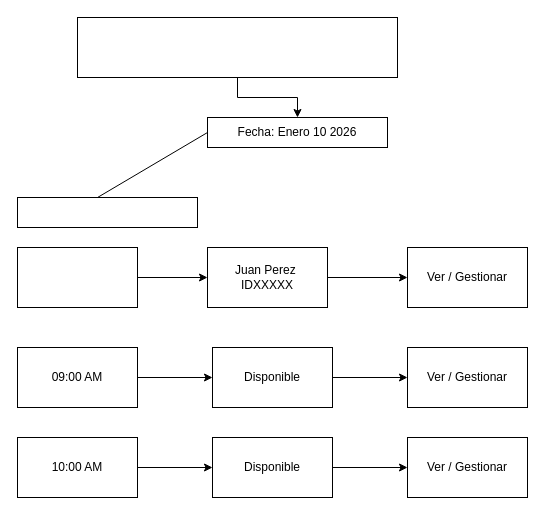
This 545x515 diagram has some shape labels left out. The shapes that lost their labels are listed below. From the top down, each one's box as (x1, y1, x2, y2) in pixels, then its label:
(76, 16, 398, 78): Agenda Diaria
(16, 196, 198, 228): Especialidad: Medicina General
(16, 246, 138, 308): 08:00 AM
